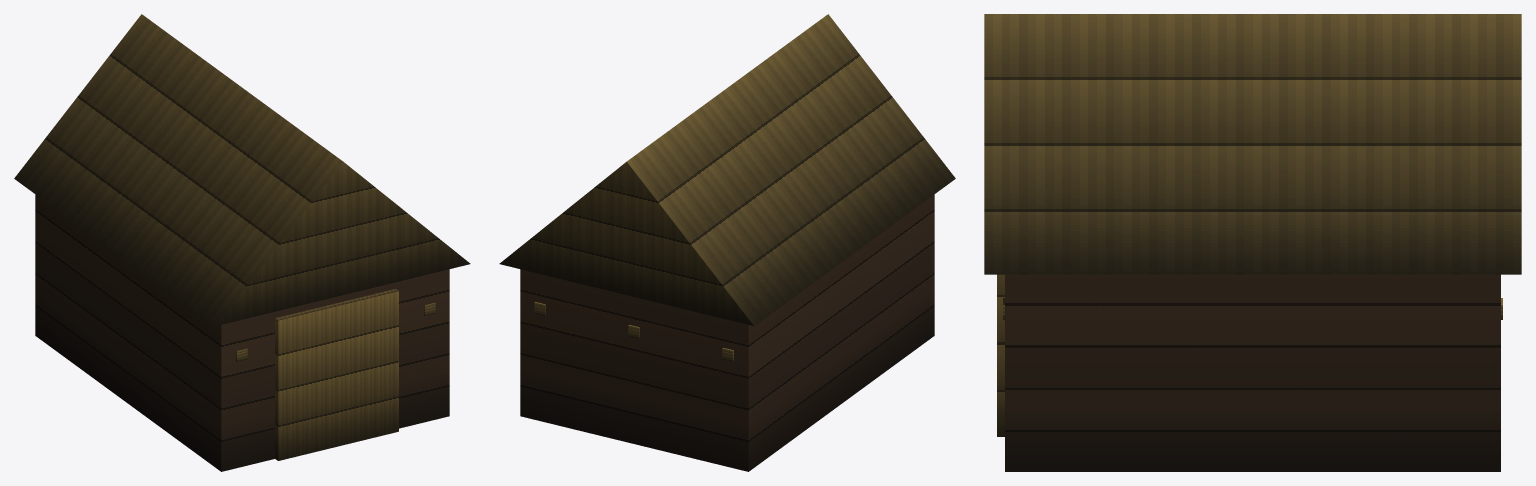
File: barn.gltf
The picture shows the model from 3 angles, left to right: view 1: azimuth 30°, elevation 25°; view 2: azimuth 150°, elevation 25°; view 3: azimuth 270°, elevation 25°; orthographic projection. The views are drawn at different scales.
Visible parts, largest first — view 1: barn; view 2: barn; view 3: barn.
Boxes of the visible parts, x1,y1,x2,y2 form: barn: (14, 14, 470, 471); barn: (499, 14, 955, 471); barn: (984, 14, 1521, 471).
Bounding box in the file's own units: 1.9 × 2.05 × 2.6.
1 material, 1 textured.
